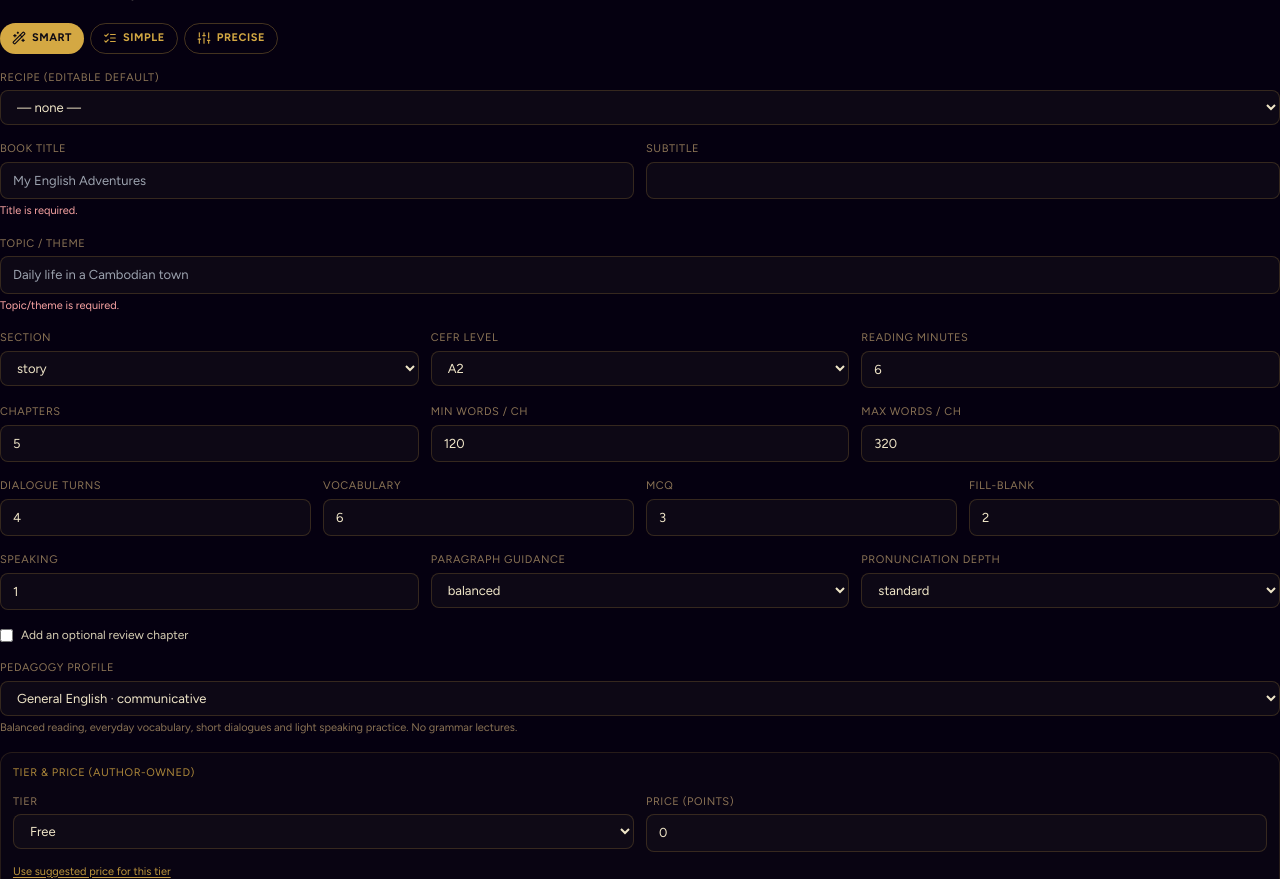
Test case: resume note text is truthful and present while generating
Type "T" into the field with test id "bf-title" at coordinates (317, 180), box [0,162,634,199]
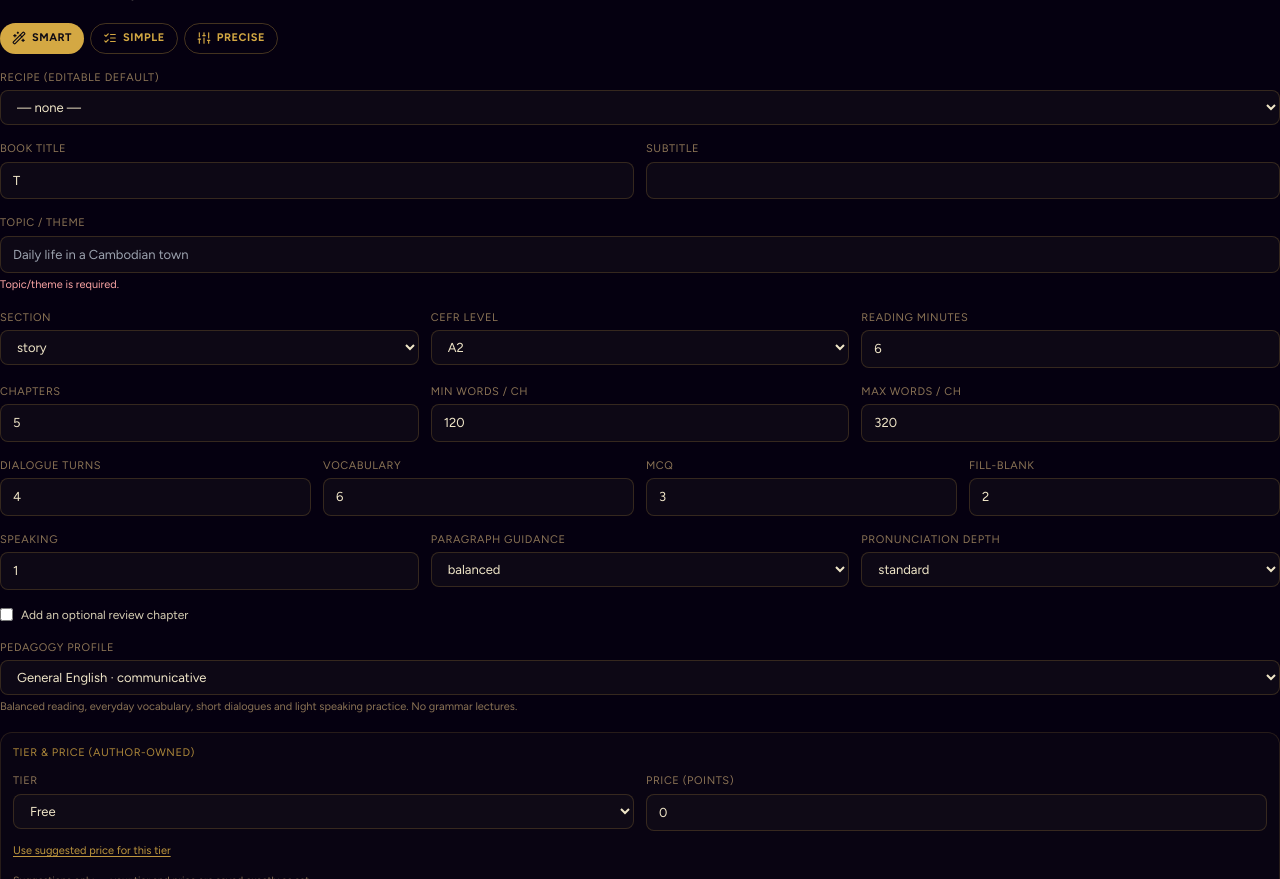
Type "Topic" into the field with test id "bf-topic" at coordinates (640, 254), box [0,236,1279,273]
(page scrolled)
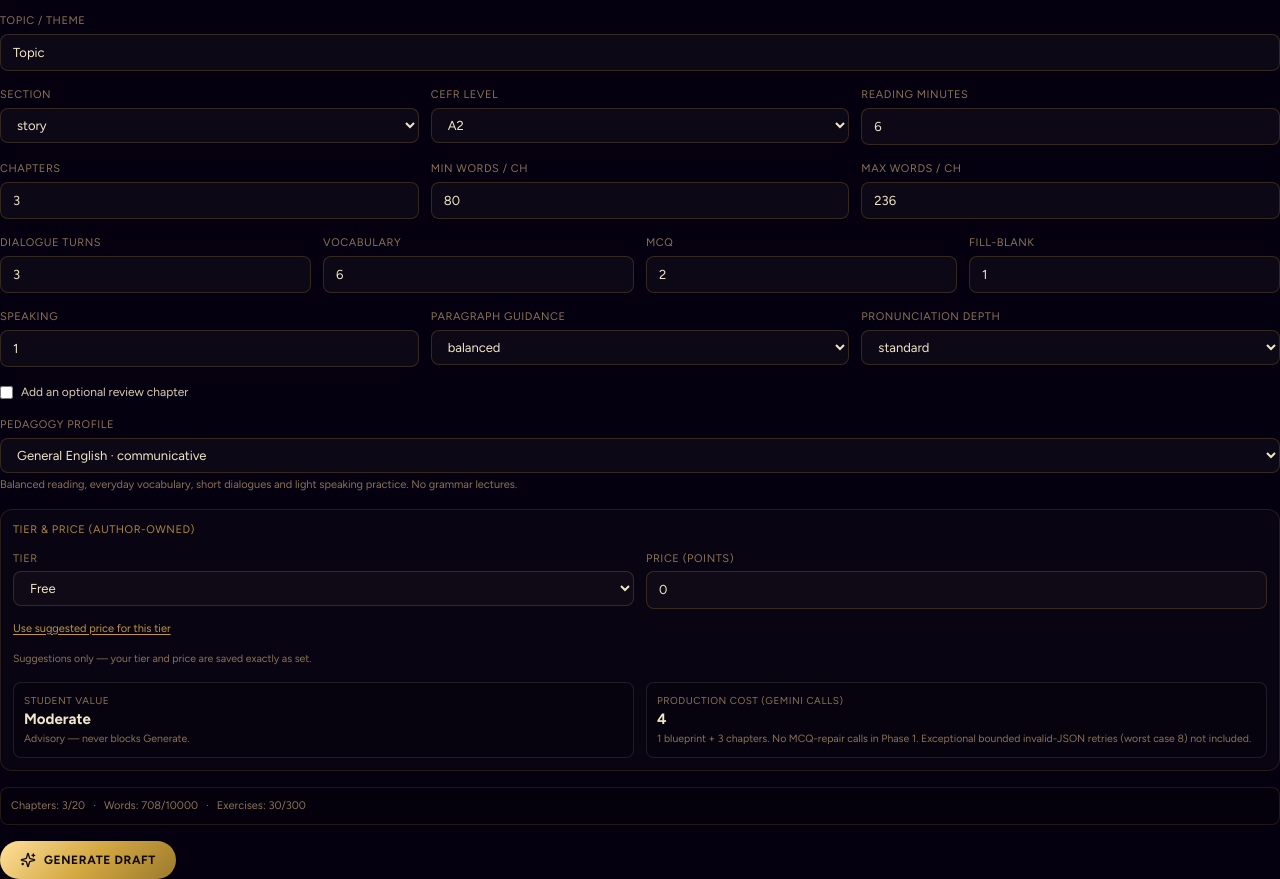
Click the button with test id "bf-generate-btn" at coordinates (88, 860), box [0,841,176,878]
(page scrolled)
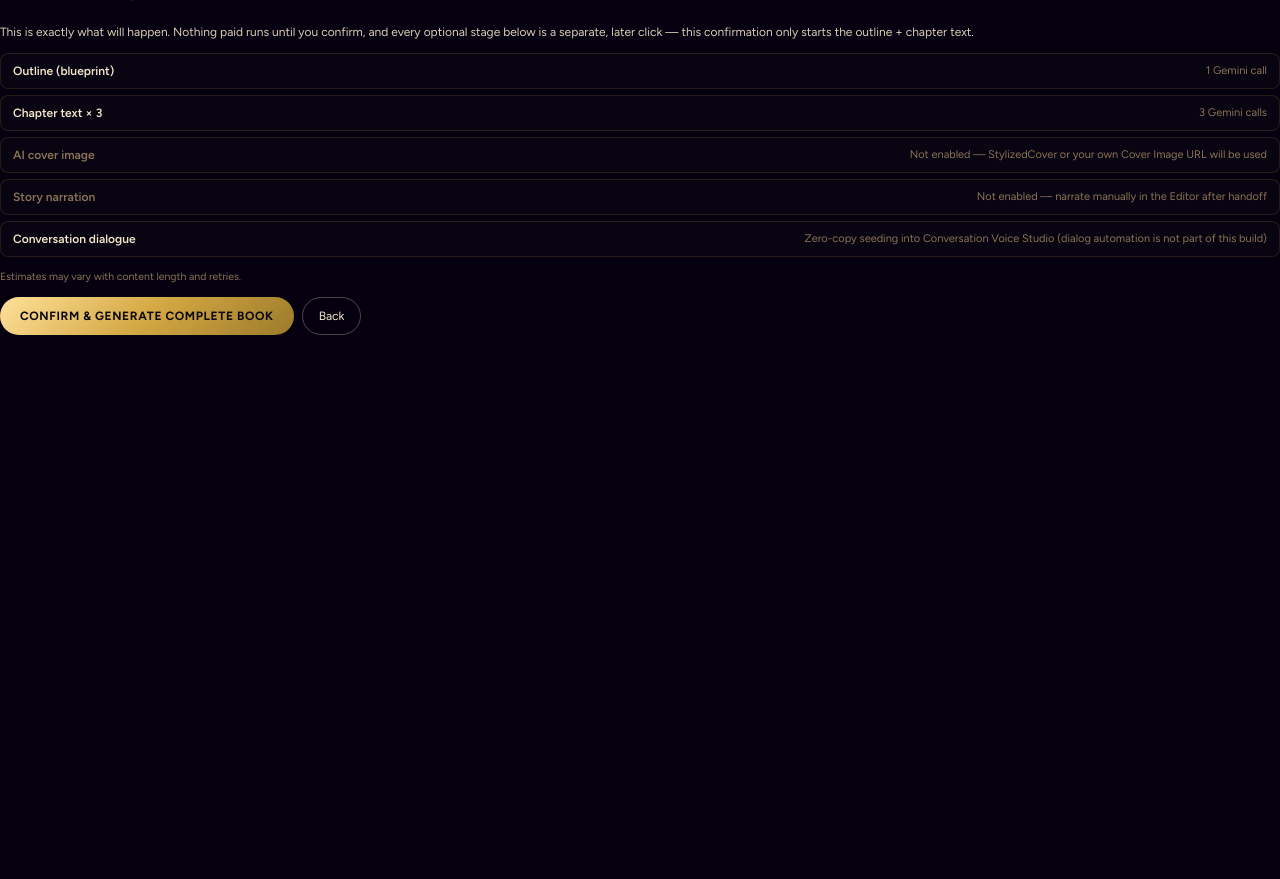
Check: the button with test id "bf-plan-confirm" is shown
Click the button with test id "bf-plan-confirm" at coordinates (147, 316), box [0,297,294,335]
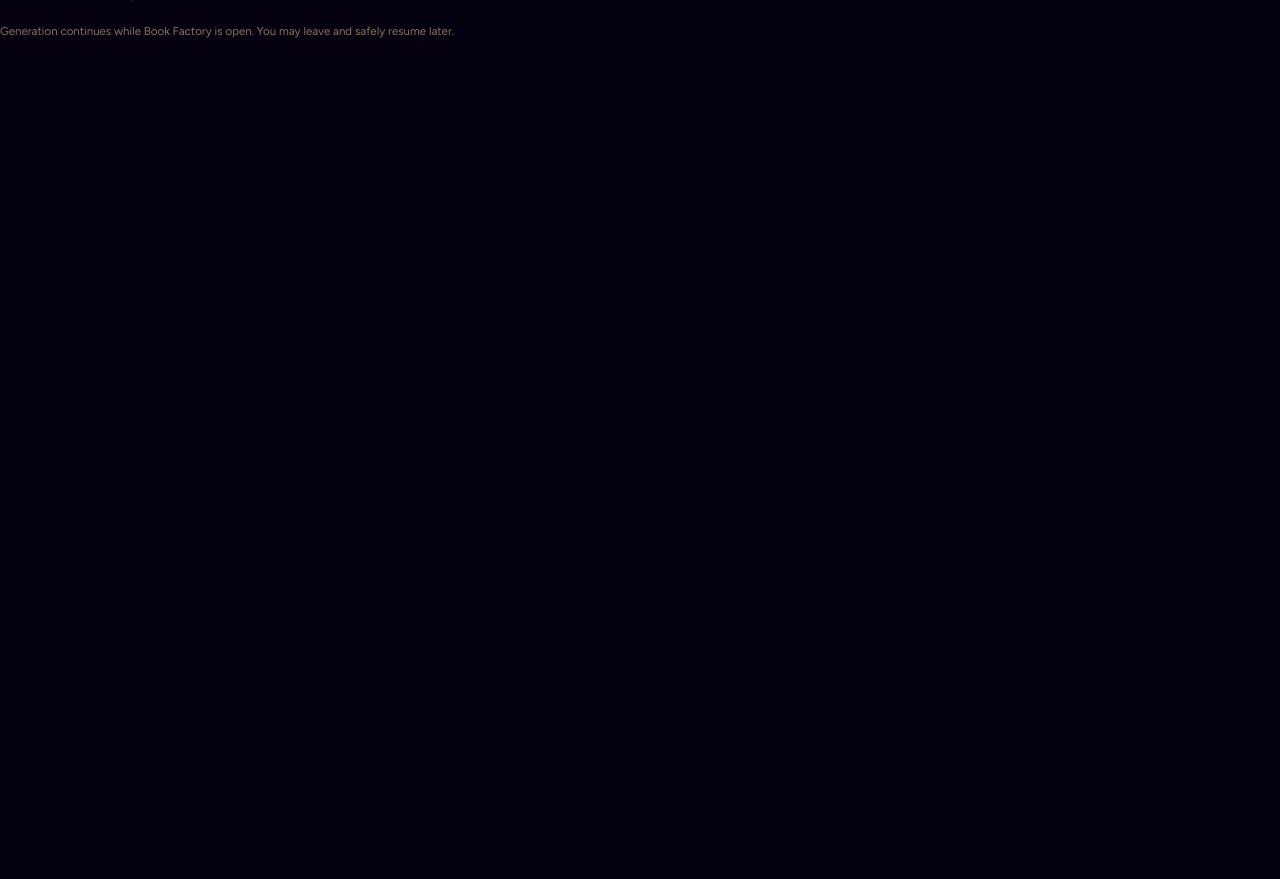
Check: the text with test id "bf-resume-note" shows "Generation continues while Book Factory is open. You may leave and safely resume later.", box [0,24,454,38]
